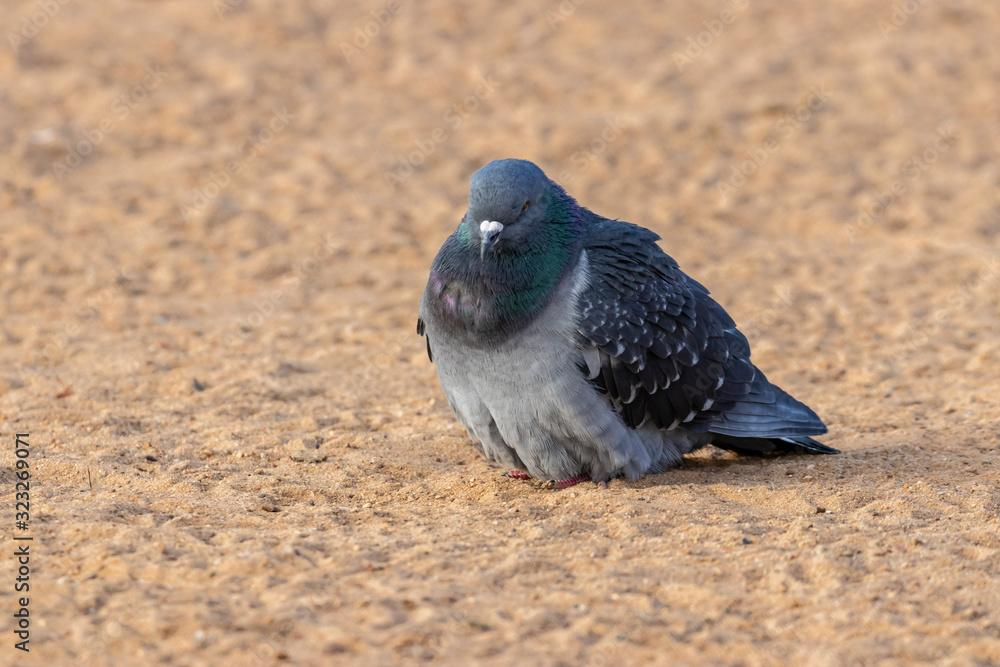Flying Rat: (397, 162, 834, 489)
